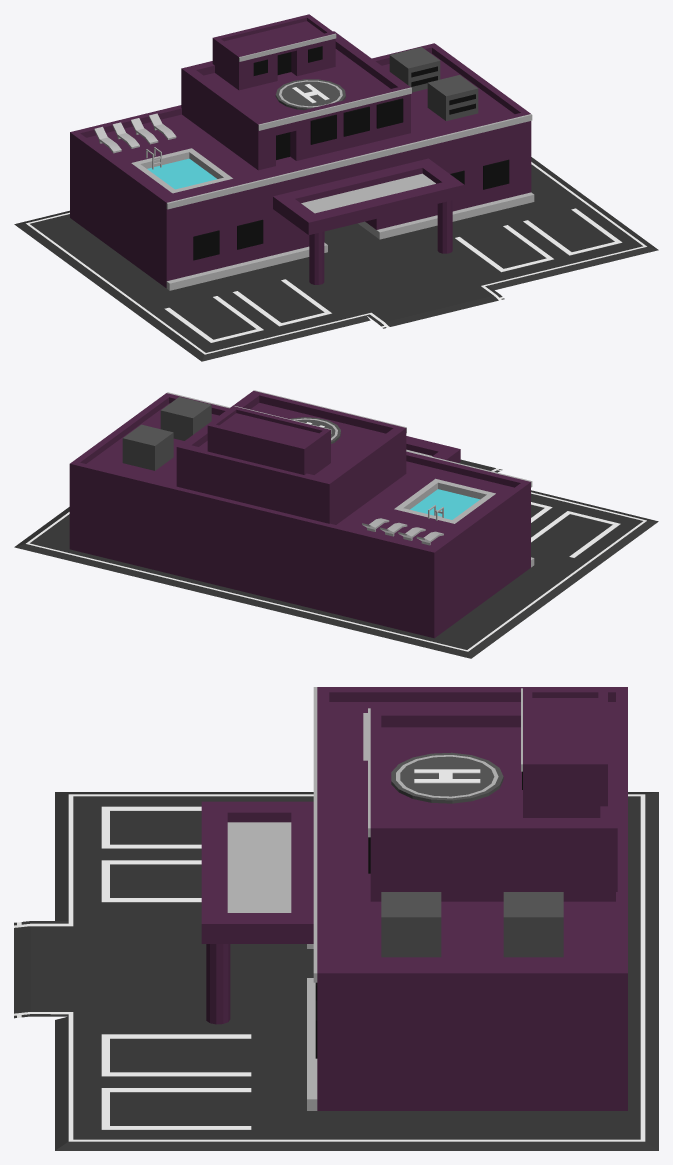
Rendered from casino.glb.
3 views of the same model, one above another, from view 1: azimuth 30°, elevation 25°; view 2: azimuth 150°, elevation 25°; view 3: azimuth 270°, elevation 25° (orthographic). The views are drawn at different scales.
Parts seen in each view (by area): view 1: SIDE_ZONE_4_Plane.009; view 2: SIDE_ZONE_4_Plane.009; view 3: SIDE_ZONE_4_Plane.009.
Part boxes in pixels (<box>): SIDE_ZONE_4_Plane.009: <box>14,14,658,361</box>; SIDE_ZONE_4_Plane.009: <box>14,390,658,658</box>; SIDE_ZONE_4_Plane.009: <box>14,687,658,1150</box>.
Bounding box in the file's own units: 37.67 × 12.49 × 28.61.
